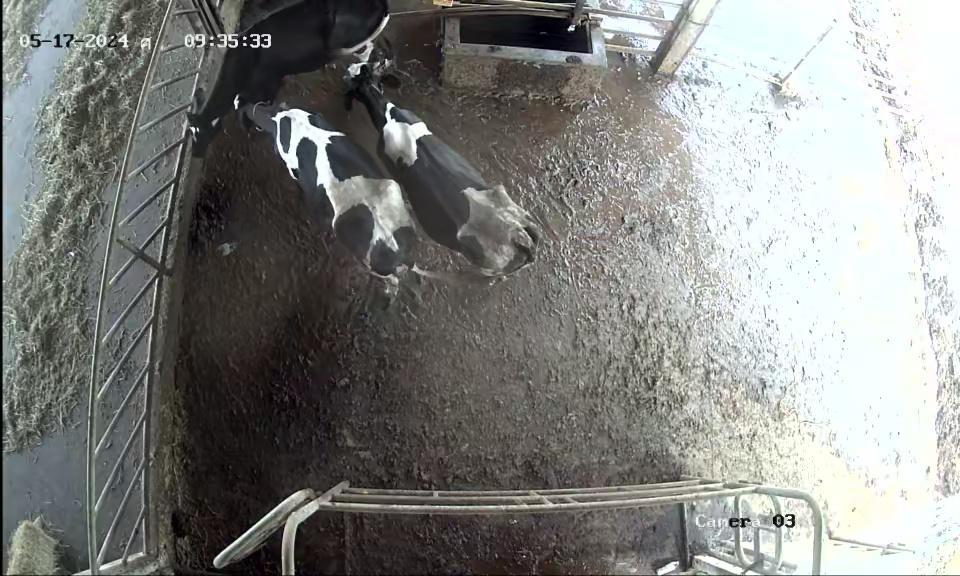stand: (345, 60, 540, 284), (237, 93, 415, 313), (186, 1, 391, 154)
